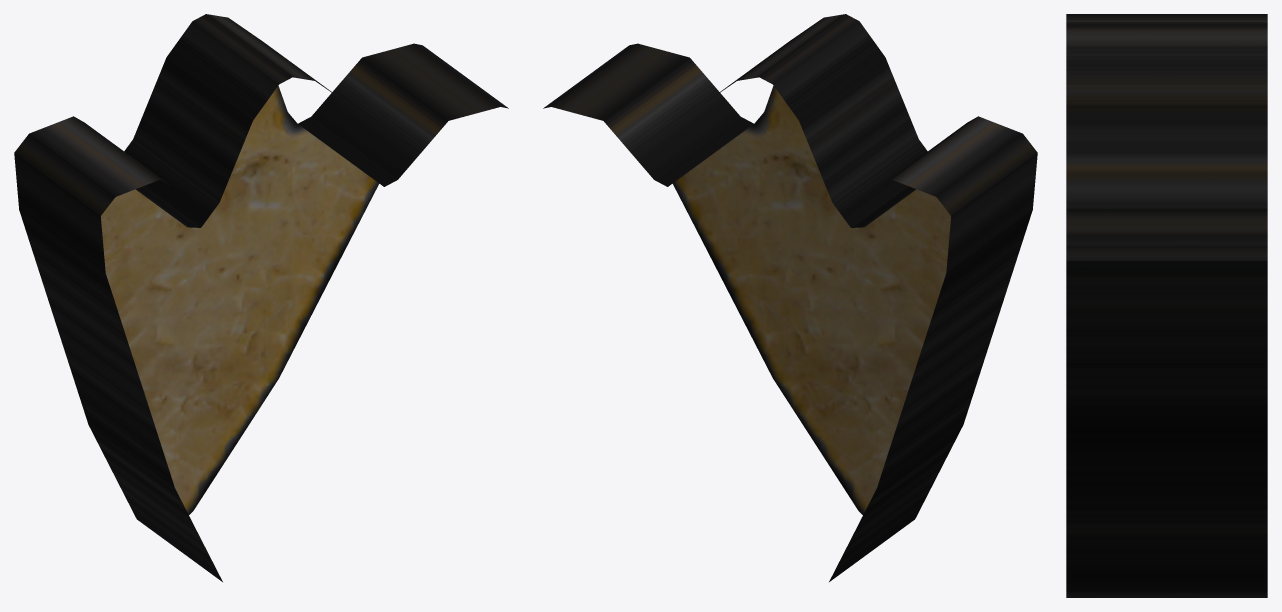
3 views of the same model, side by side, from view 1: azimuth 30°, elevation 25°; view 2: azimuth 150°, elevation 25°; view 3: azimuth 270°, elevation 25° (orthographic). The views are drawn at different scales.
Visible parts, largest first — view 1: world; view 2: world; view 3: world.
Part boxes in pixels (x1=…): world: x1=14, y1=14, x2=508, y2=581; world: x1=543, y1=14, x2=1037, y2=581; world: x1=1066, y1=14, x2=1267, y2=597.
Bounding box in the file's own units: 0.4386 × 0.5192 × 0.16.
1 material, 1 textured.
